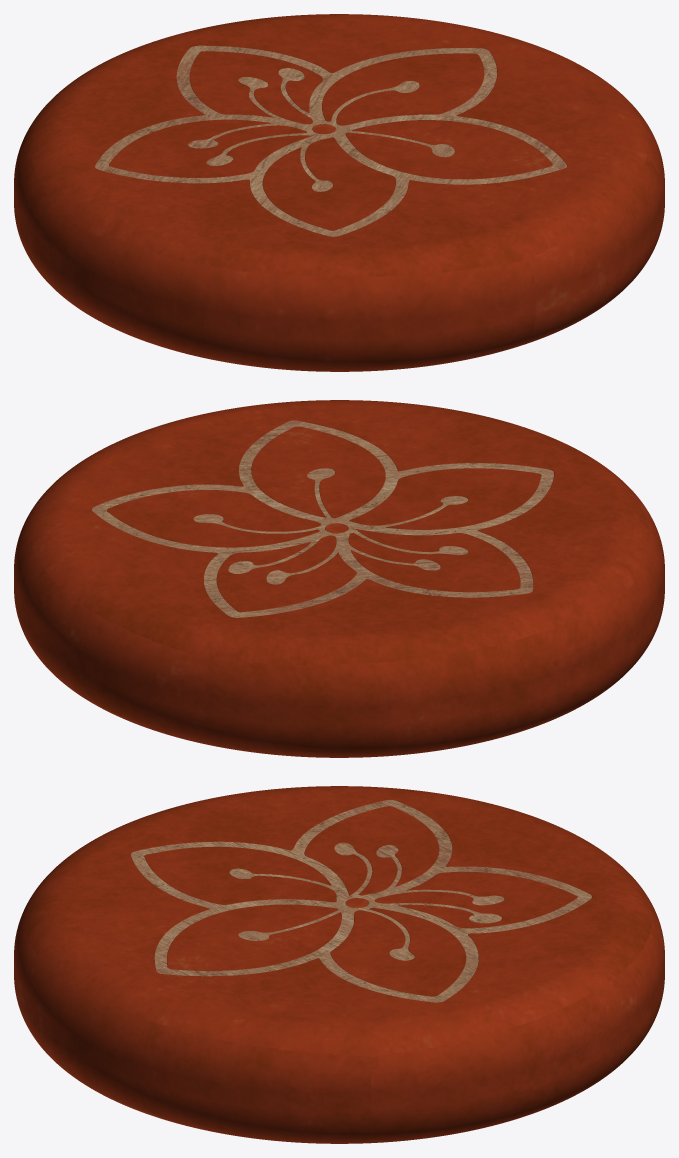
File: Tile_Rhod.glb
3 renders of one model, top to bottom at view 1: azimuth 30°, elevation 25°; view 2: azimuth 150°, elevation 25°; view 3: azimuth 270°, elevation 25°, orthographic.
Visible parts, largest first — view 1: Tile, Face; view 2: Tile, Face; view 3: Tile, Face.
Boxes of the visible parts, x1,y1,x2,y2 form: Tile: (14, 14, 664, 371); Face: (95, 45, 566, 236); Tile: (14, 400, 664, 757); Face: (92, 420, 553, 617); Tile: (14, 786, 664, 1143); Face: (131, 800, 591, 1002).
Size of the model in its own units: 2 by 0.4 by 2.
2 materials, 2 textured.
